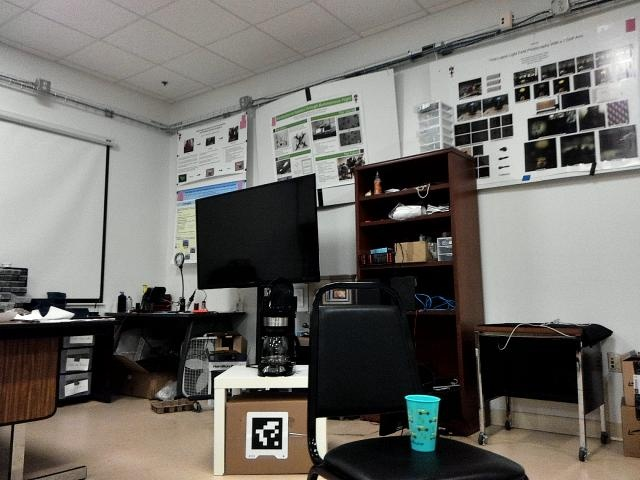coffee_cup: (400, 391, 443, 453)
